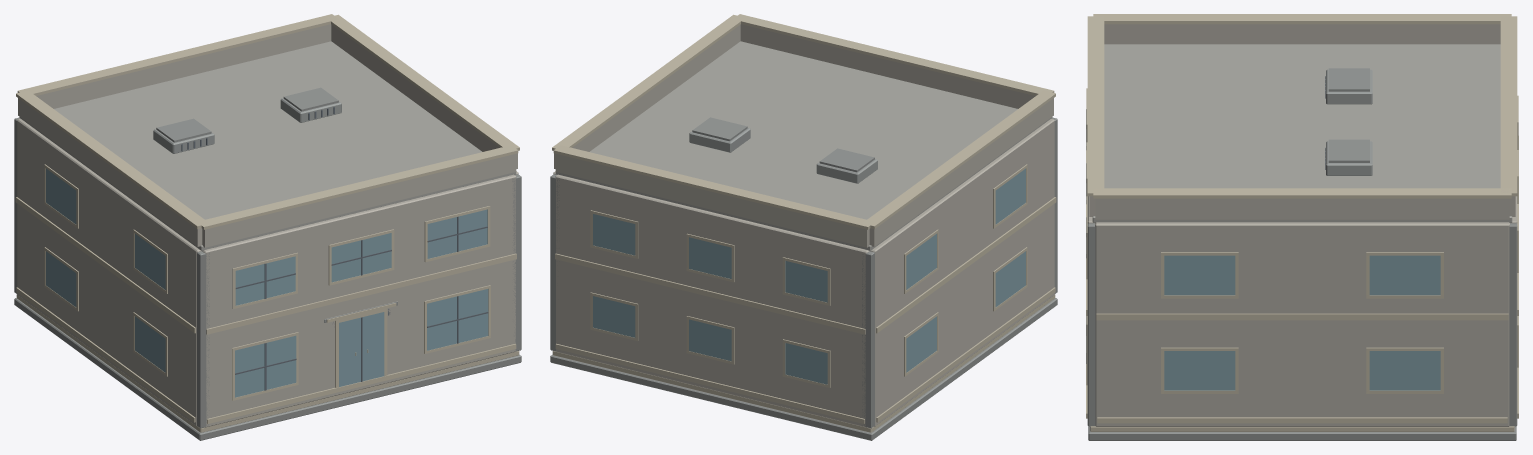
The model's file is 0-20261016-1900-ev064-r12-town-lotmedium.fbx.
The picture shows the model from 3 angles, left to right: view 1: azimuth 30°, elevation 25°; view 2: azimuth 150°, elevation 25°; view 3: azimuth 270°, elevation 25°; orthographic projection. The views are drawn at different scales.
Visible parts, largest first — view 1: SW_Town_LotMedium; view 2: SW_Town_LotMedium; view 3: SW_Town_LotMedium.
Boxes of the visible parts, x1,y1,x2,y2 form: SW_Town_LotMedium: (14,14,521,440); SW_Town_LotMedium: (550,14,1057,440); SW_Town_LotMedium: (1086,14,1518,440).
Bounding box in the file's own units: 1202 × 754 × 1202.
